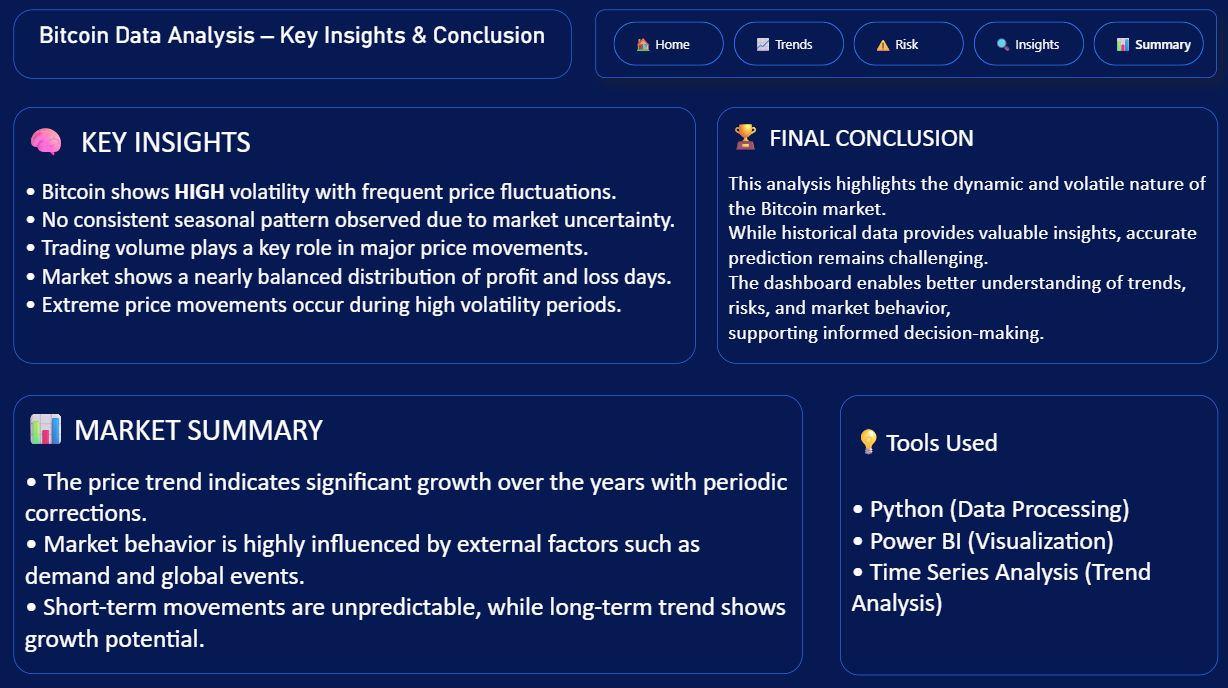

What the dashboard file says about the page in this screenshot:
{"tool":"powerbi","page":{"name":"📊 Summary","canvas":[1280,720],"ordinal":4},"visuals":[{"type":"textbox","box":[14.1,10.9,581.2,71.9],"z":0},{"type":"textbox","box":[14.1,112.5,710.9,267.2],"z":1000},{"type":"textbox","box":[14.1,412.5,821.9,290.6],"z":2000},{"type":"textbox","box":[746.9,112.5,521.9,267.2],"z":3000},{"type":"textbox","box":[875,412.5,393.8,292.2],"z":4000},{"type":"shape","box":[620.6,11.1,647.6,71.4],"z":5000},{"type":"pageNavigator","box":[639.7,23.8,617.5,46],"z":6000}]}

Visuals, with their boxes in screenshot pixels (x1, y1, x2, y2), scaled from the page's 1280x720 canvas onto the 1228x688 screenshot:
textbox: <box>14,10,571,79</box>
textbox: <box>14,108,696,363</box>
textbox: <box>14,394,802,672</box>
textbox: <box>717,108,1217,363</box>
textbox: <box>839,394,1217,673</box>
shape: <box>595,11,1217,79</box>
pageNavigator: <box>614,23,1206,67</box>
